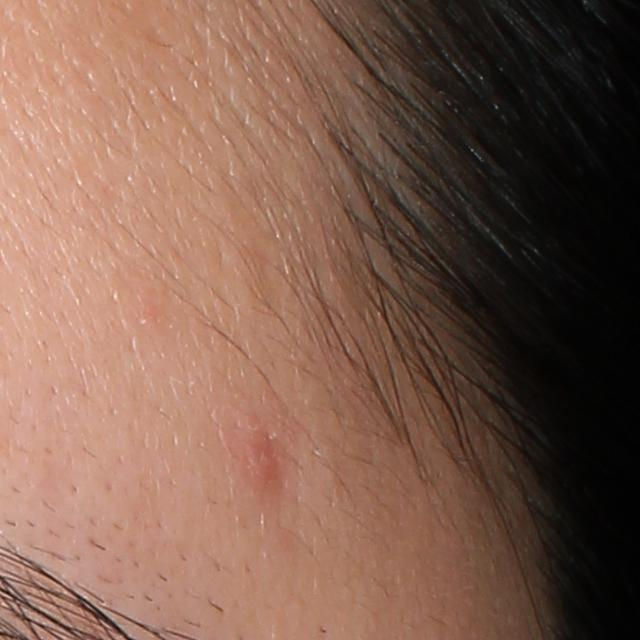papule: (250, 426, 288, 494)
